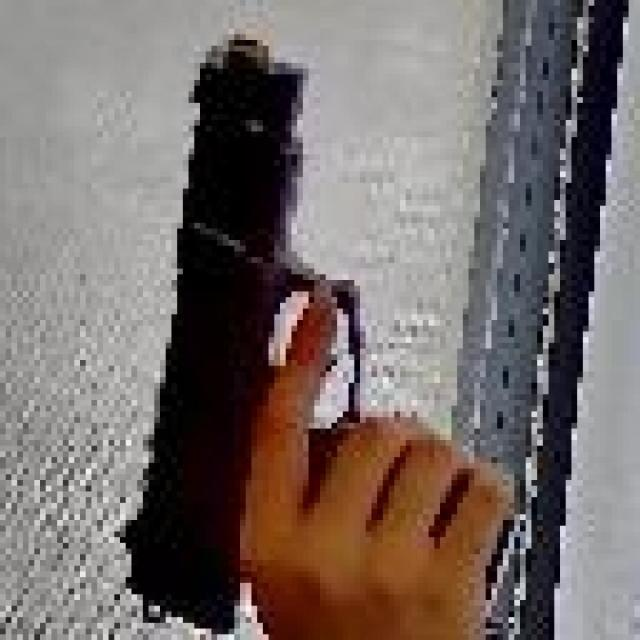pistol: (97, 11, 537, 640)
